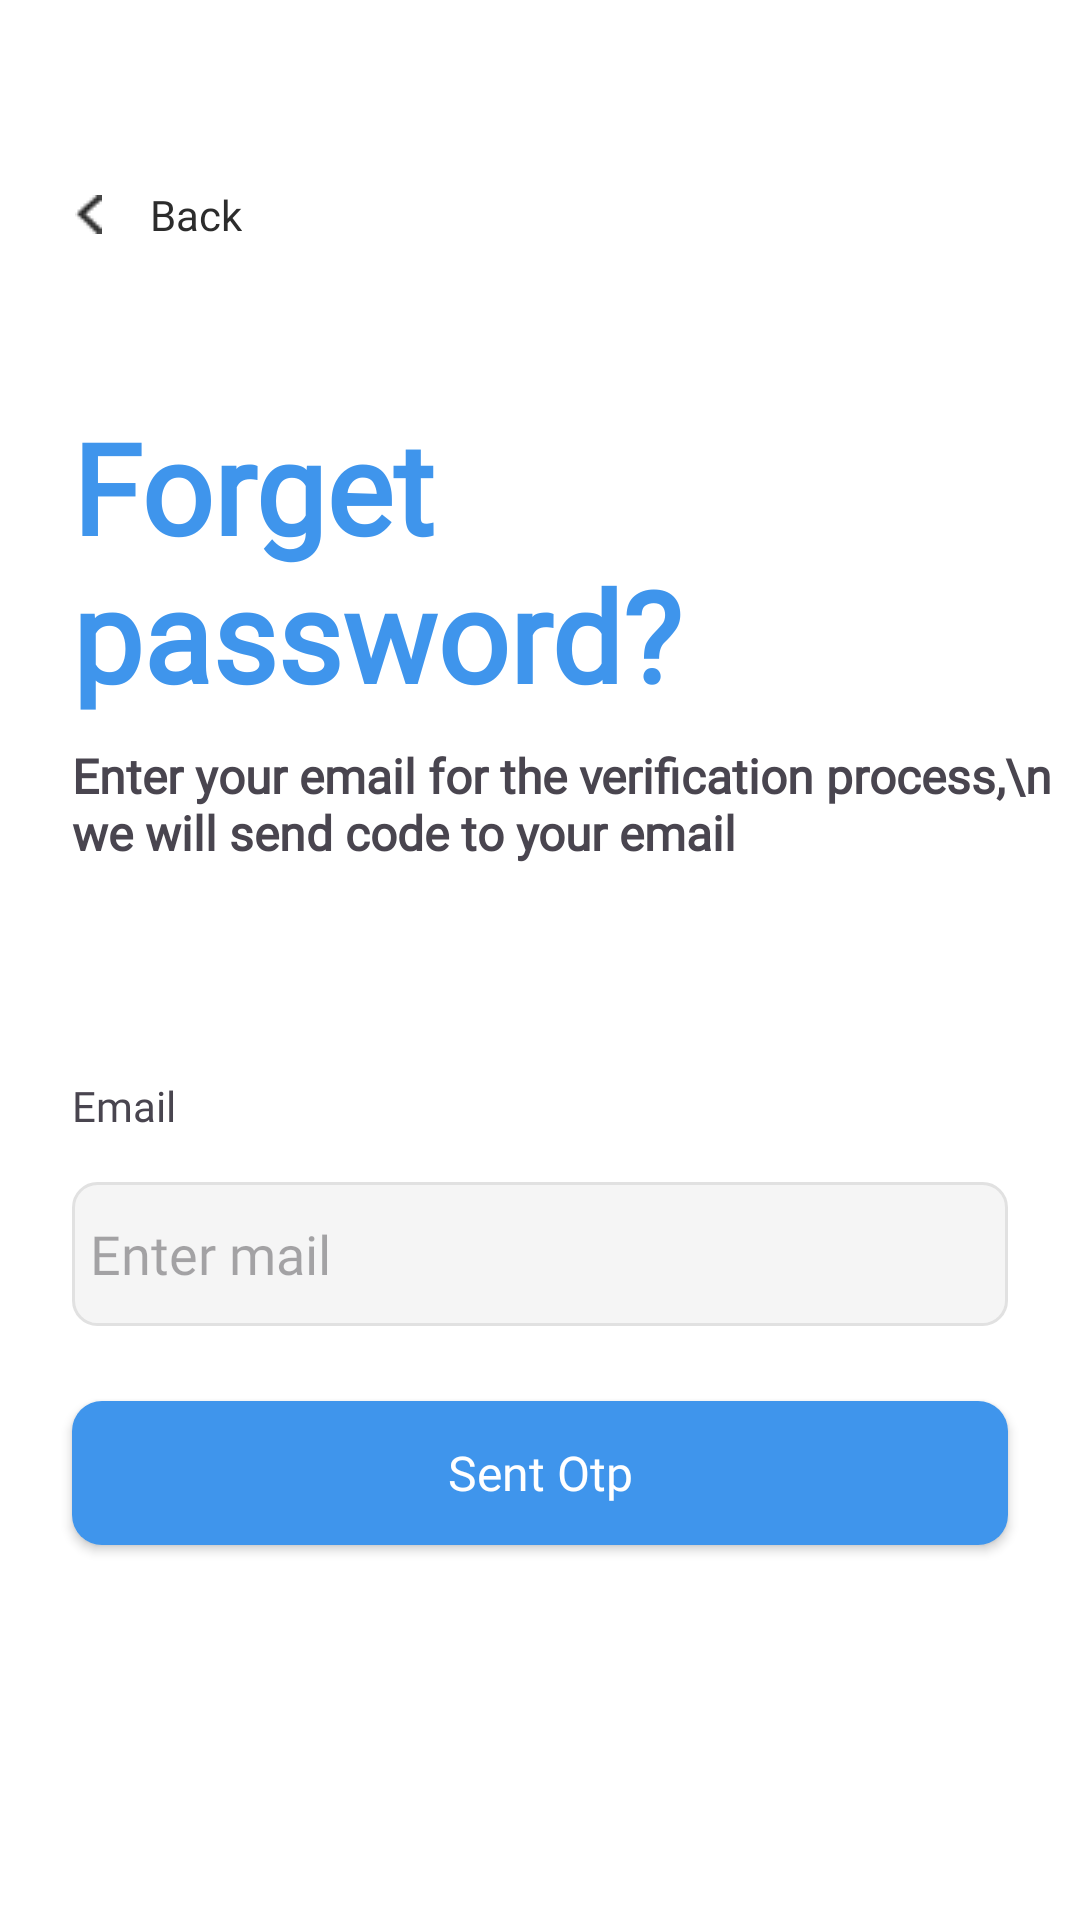

Where to tap for icons on this 1080*1920 app screen, as point (x, y):
arrow: point (88, 214)
